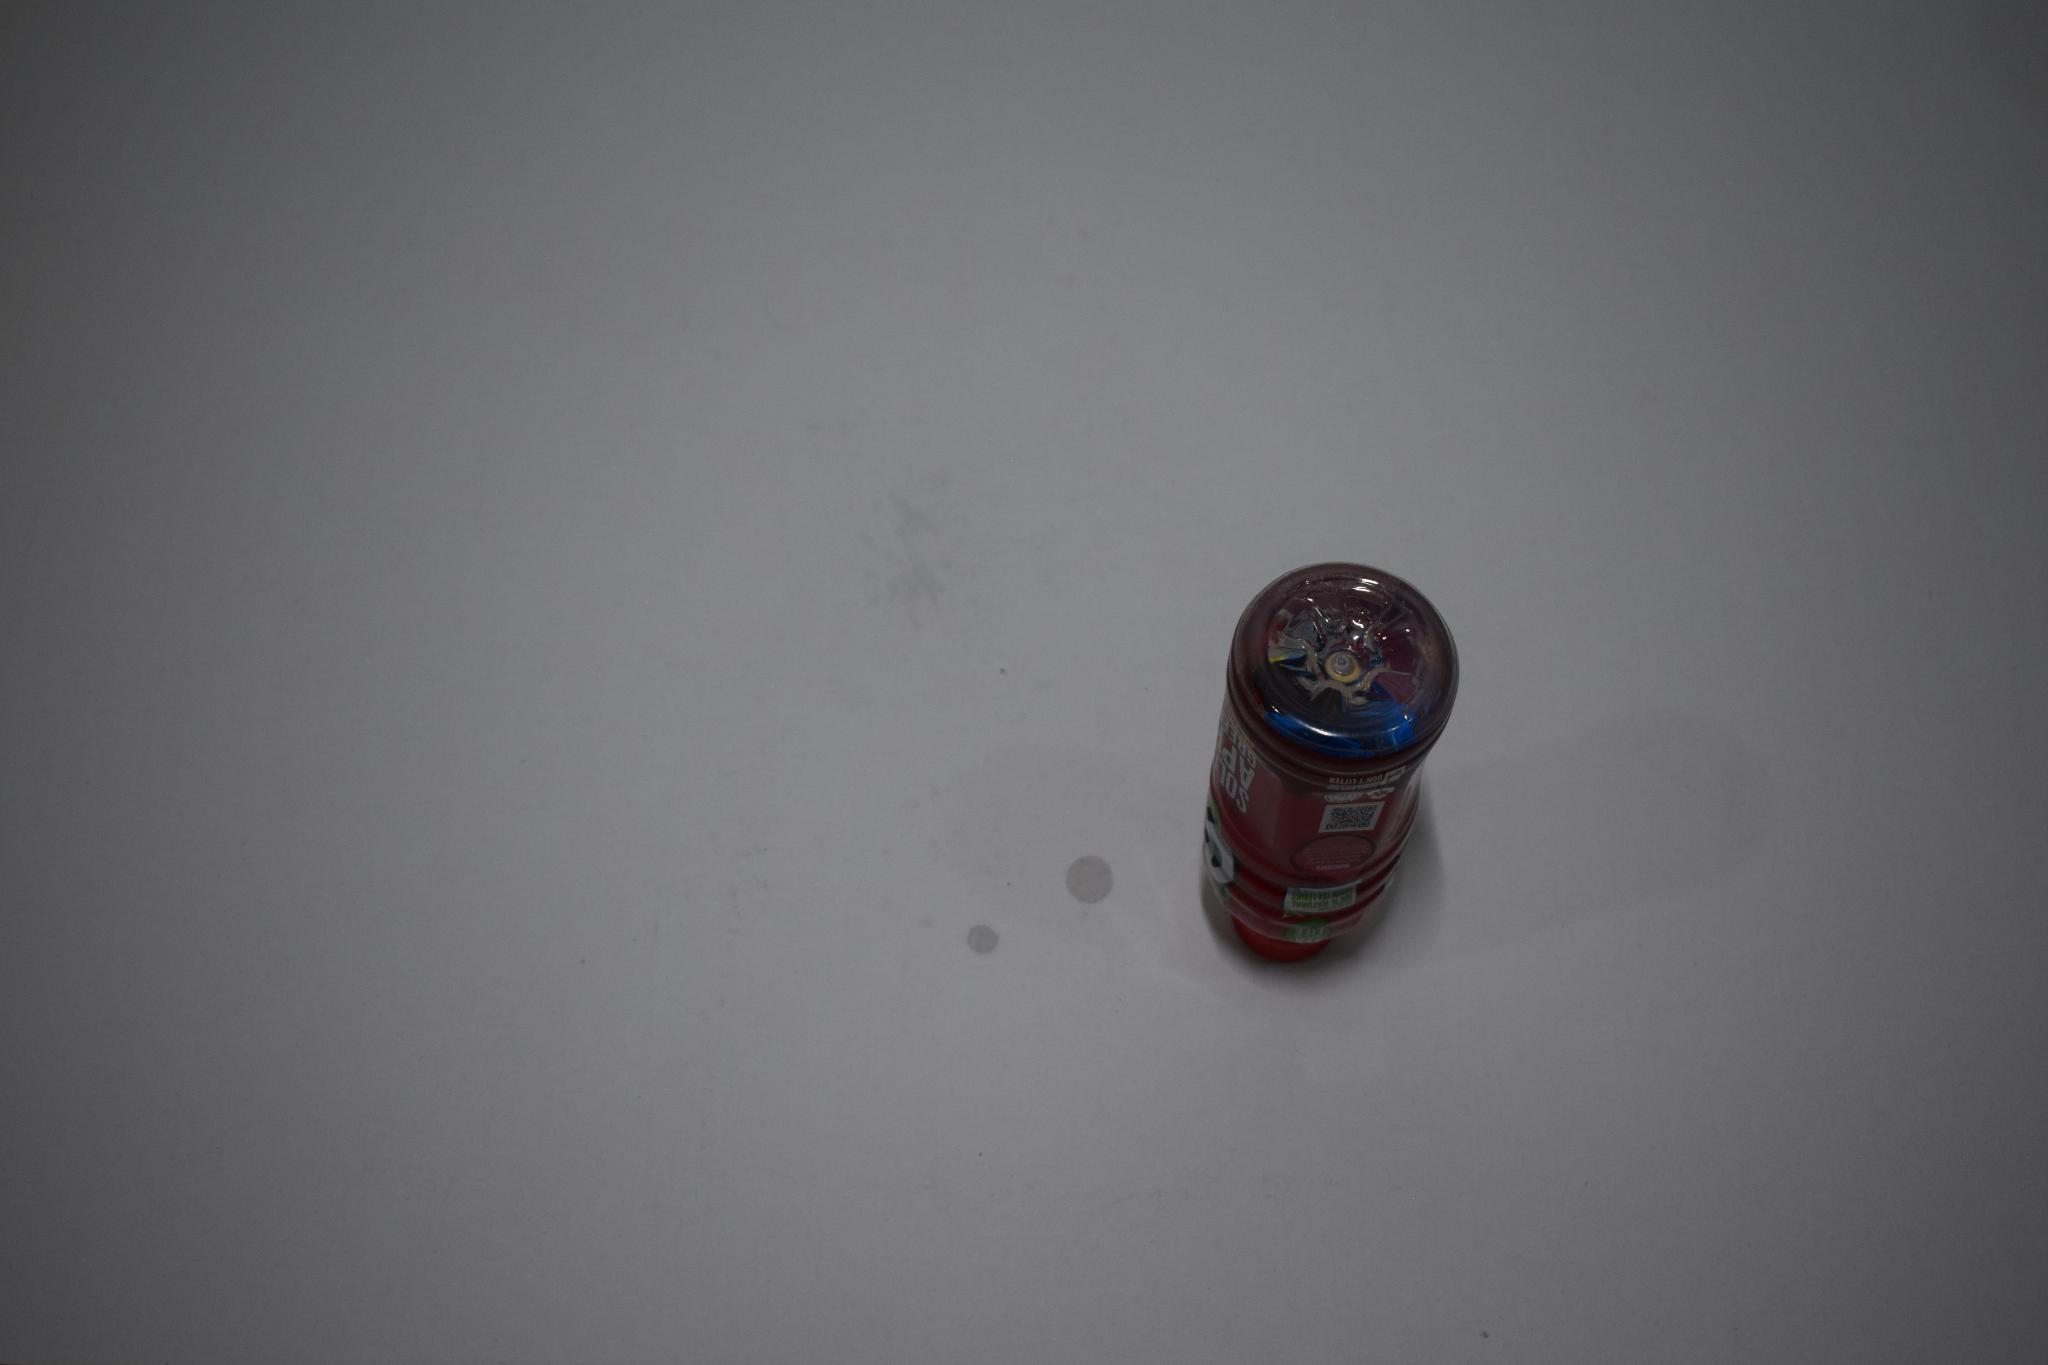bottle: (1197, 545, 1469, 1015)
